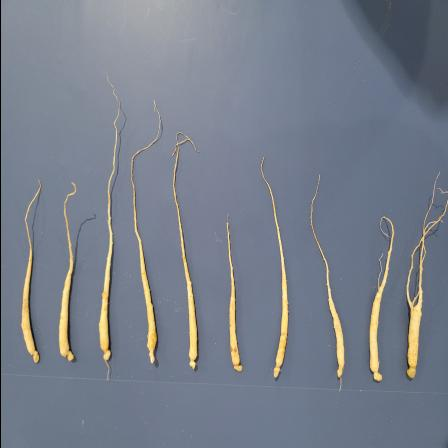Ginseng: (401, 167, 447, 380), (128, 97, 162, 367), (307, 170, 346, 382), (94, 74, 120, 364), (258, 156, 290, 384), (171, 128, 198, 372), (360, 212, 396, 386), (15, 178, 42, 366), (55, 178, 79, 364), (223, 214, 245, 374)
head: (146, 342, 158, 364), (59, 348, 74, 362), (369, 366, 382, 382), (99, 346, 111, 362), (406, 360, 416, 379), (28, 346, 38, 364), (272, 361, 282, 379), (187, 354, 197, 370), (231, 358, 242, 372), (336, 362, 344, 380)
